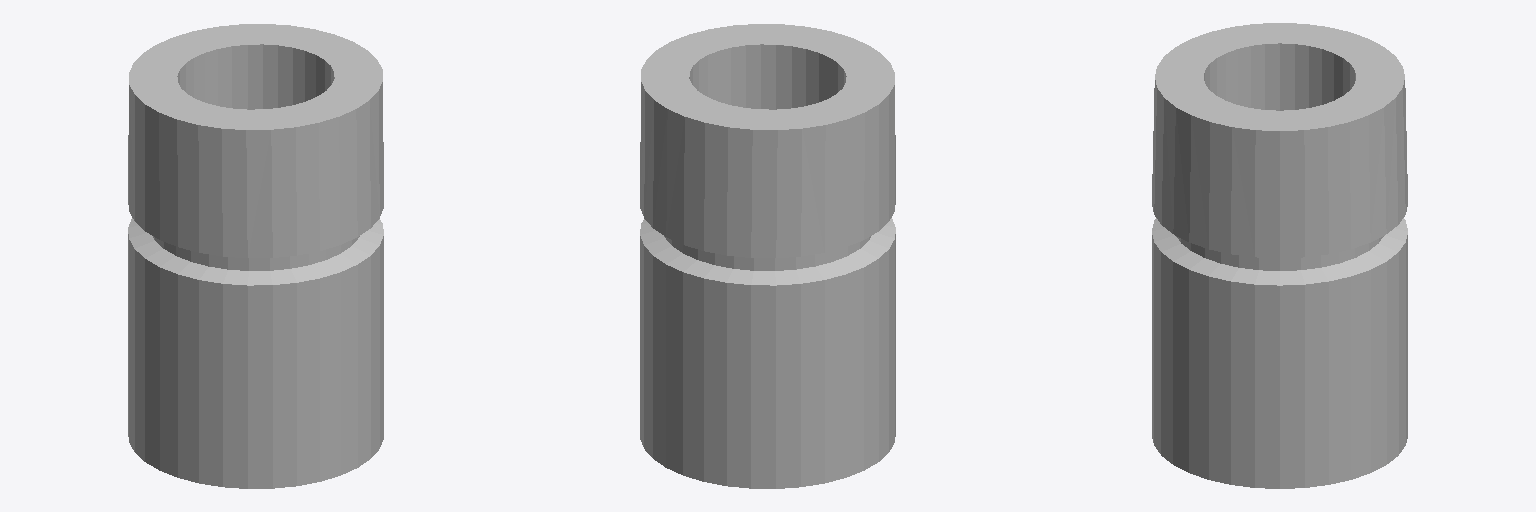
File: Dark_Round_Short_Hollow.obj
The picture shows the model from 3 angles: view 1: azimuth 30°, elevation 25°; view 2: azimuth 150°, elevation 25°; view 3: azimuth 270°, elevation 25°; orthographic projection.
Parts seen in each view (by area): view 1: Dark_Round_Short_Hollow; view 2: Dark_Round_Short_Hollow; view 3: Dark_Round_Short_Hollow.
Boxes of the visible parts, box(x1,y1,x2,y2) form: Dark_Round_Short_Hollow: box(128, 24, 383, 488); Dark_Round_Short_Hollow: box(640, 24, 895, 488); Dark_Round_Short_Hollow: box(1152, 23, 1407, 488).
Size of the model in its own units: 0.65 by 1 by 0.65.